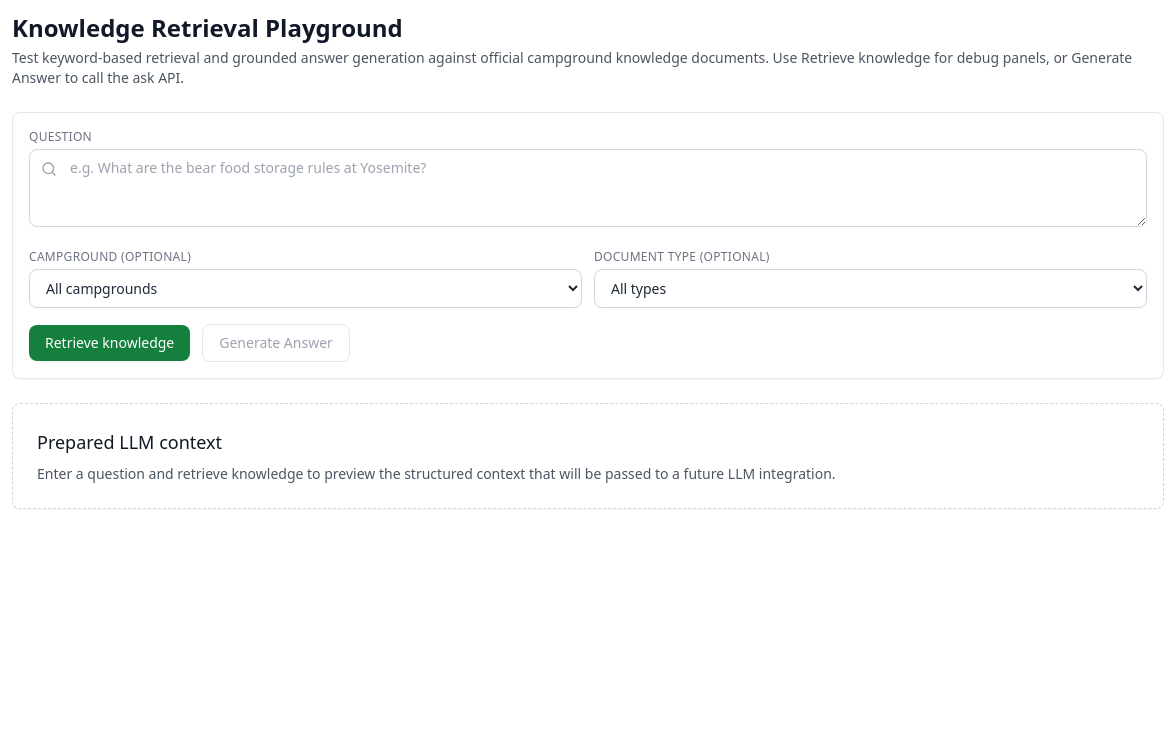
Test case: RetrievalPlaygroundPage › generates and displays an answer from the ask API
This screenshot has width=1176, height=732.
Type "bear food storage" into the text box named "Enter a question to retrieve knowledge" at (588, 188), box left=29, top=149, right=1147, bottom=227
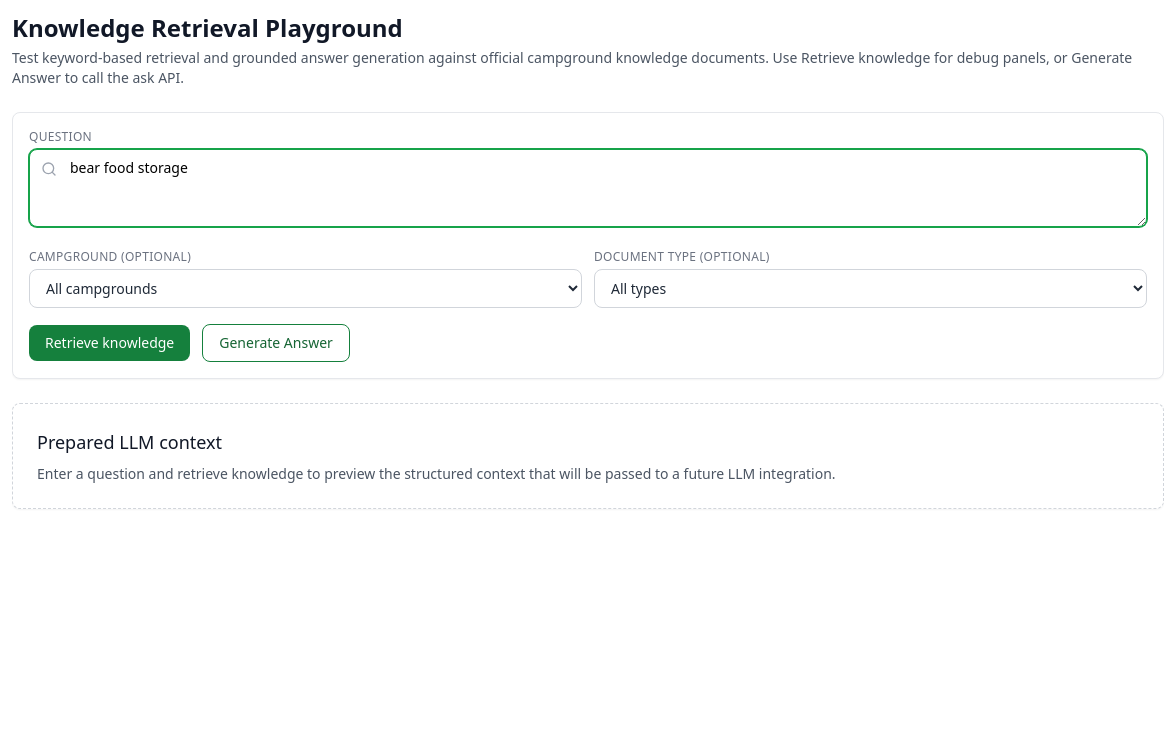
Click the button "Generate Answer" at (276, 343), box left=202, top=324, right=350, bottom=362
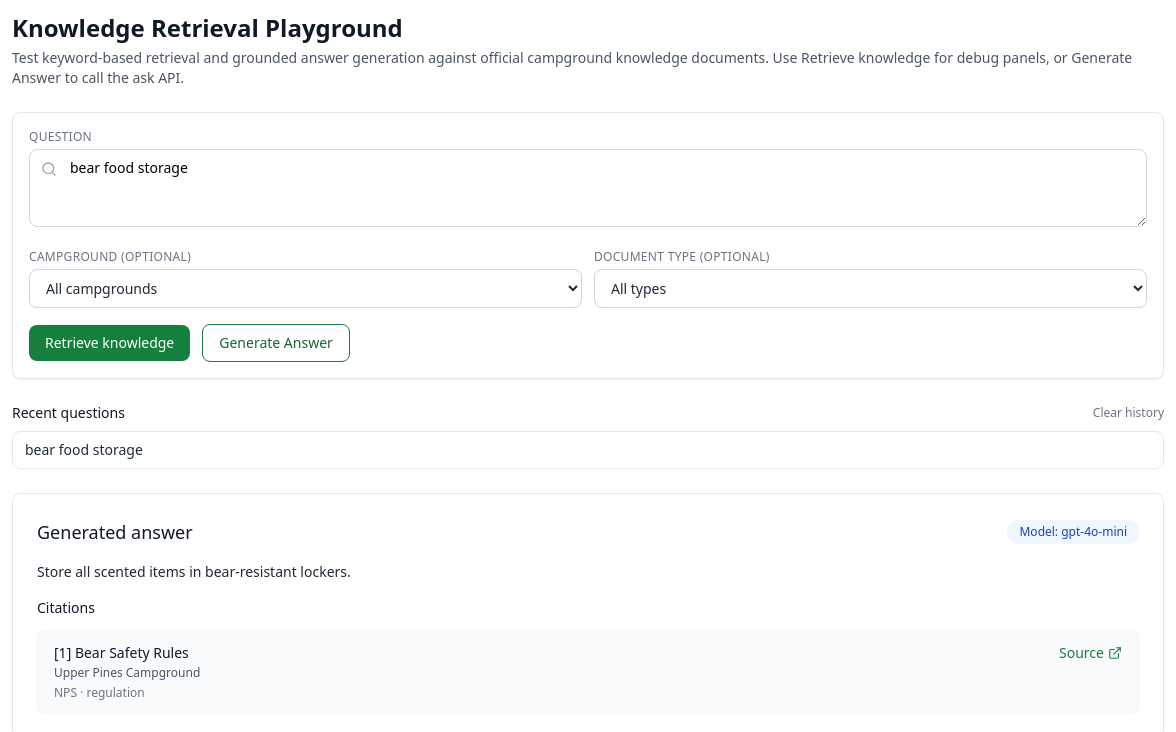
Check: the text "Store all scented items in bear-resistant lockers." is shown, box left=37, top=562, right=351, bottom=581
Check: the text "Model: gpt-4o-mini" is shown, box left=1008, top=520, right=1139, bottom=544
Check: the text "[1] Bear Safety Rules" is shown, box left=54, top=643, right=200, bottom=663
